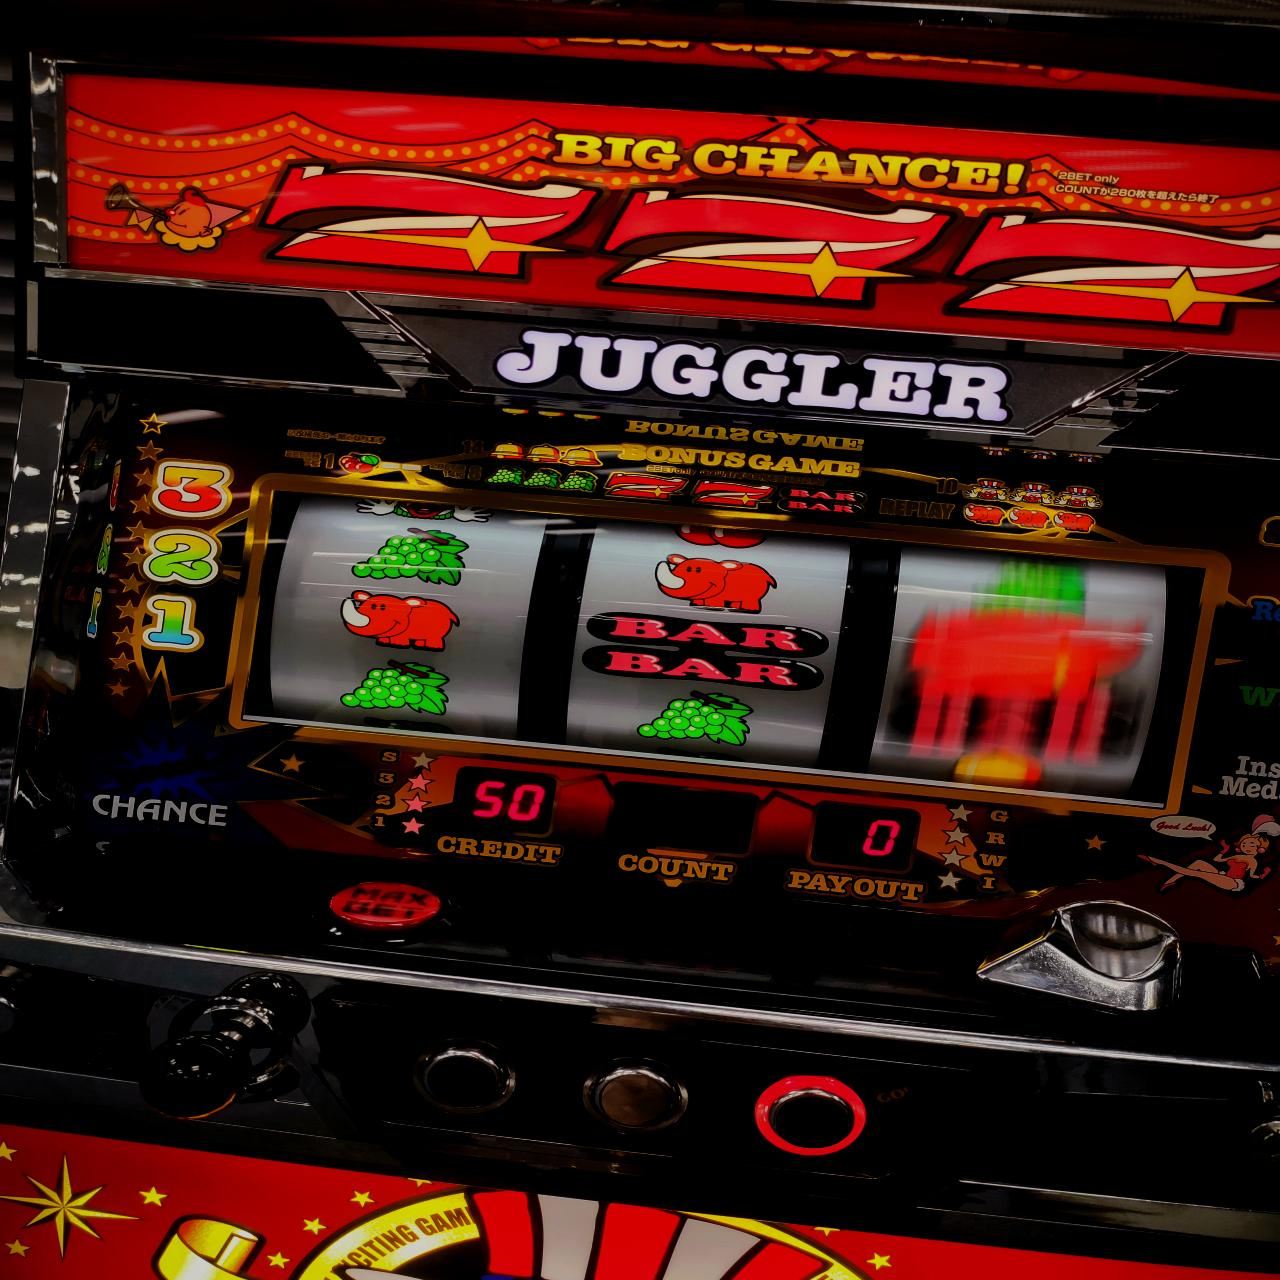8: (647, 552, 778, 613), (338, 592, 465, 651)
bar: (580, 610, 833, 693)
grape: (345, 525, 478, 590), (635, 688, 757, 747), (338, 659, 452, 717)
rhino: (266, 488, 1177, 812)
